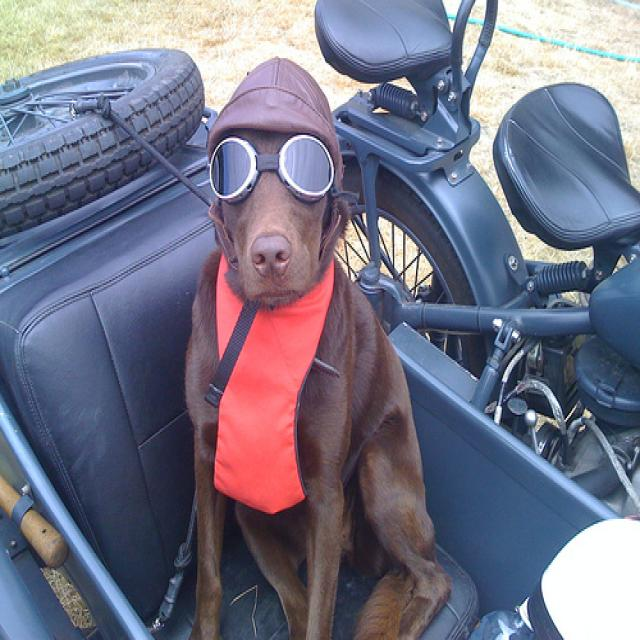motor: (314, 0, 640, 525)
